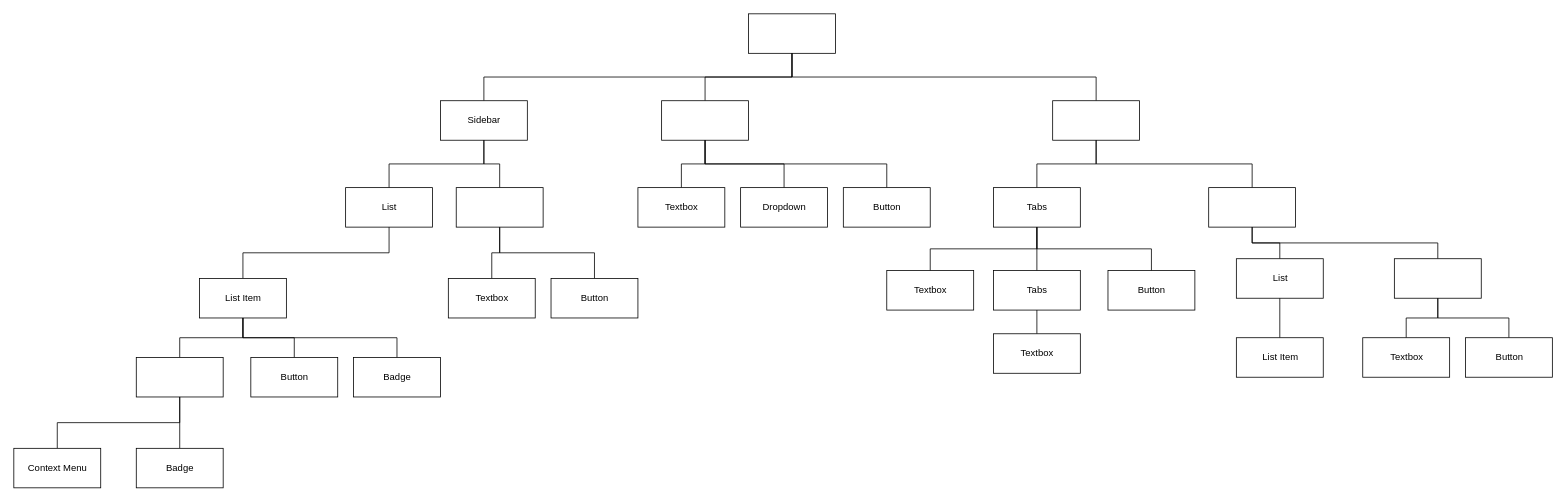
Image size: 1567x502. Some labels were removed from this diagram. Each missing label, with the centre of its shape:
"Chat" goes at (x=1252, y=207).
"Message Container" goes at (x=1437, y=278).
"Response Area" goes at (x=1096, y=120).
"Root" goes at (x=791, y=33).
"Searchbar" goes at (x=499, y=207).
"Settings" goes at (x=705, y=120).
"Socket Item" goes at (x=179, y=377).
